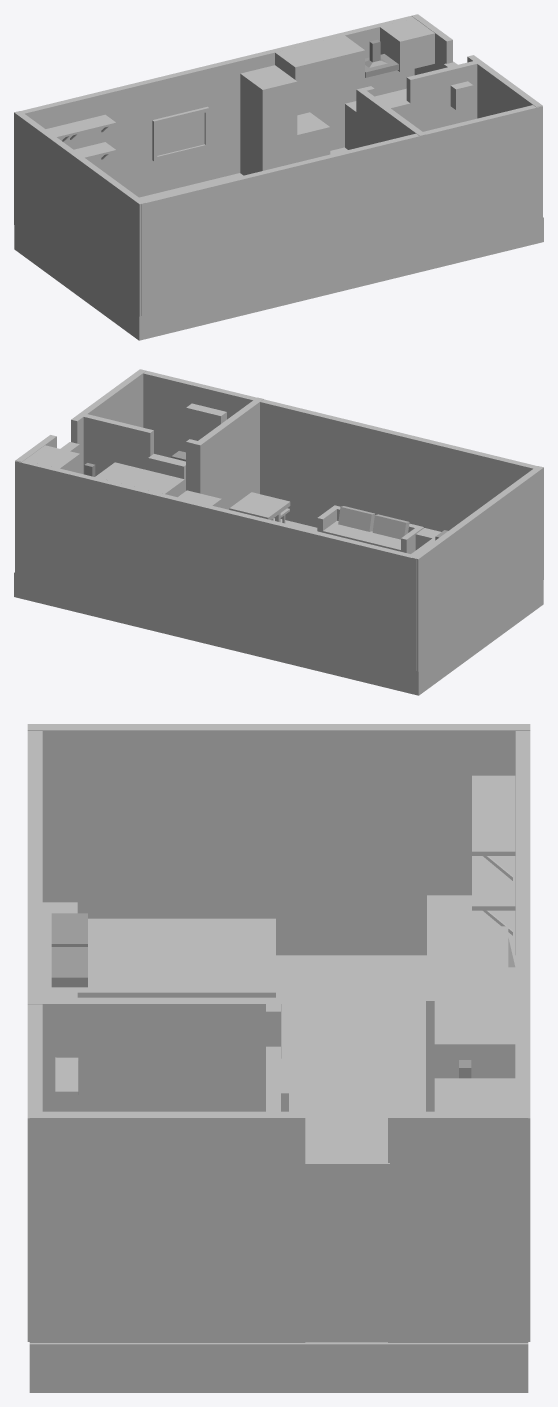
Rendered from room.fbx.
The picture shows the model from 3 angles, top to bottom: view 1: azimuth 30°, elevation 25°; view 2: azimuth 150°, elevation 25°; view 3: azimuth 270°, elevation 25°; orthographic projection. The views are drawn at different scales.
Parts seen in each view (by area): view 1: wall2, wall1, wall3, floor1, fridge, wall7, wall6, TV, pCube25, wall4, pCube22, pCube23 (+7 smaller); view 2: wall1, wall2, wall3, floor1, wall6, wall7, wall4, sofa_body, dining_table, pCube25, pCube22, pCube36 (+5 smaller); view 3: wall3, wall4, floor1, wall5, wall6, bed_body, door, wall1, wall2, pCube23, wall9, desk (+10 smaller).
Part boxes in pixels (box(x1,y1,x2,y2)): wall2: box(141, 105, 542, 315); wall1: box(21, 15, 414, 197); wall3: box(14, 111, 145, 316); floor1: box(14, 147, 543, 340); fridge: box(240, 65, 297, 175); wall7: box(406, 61, 477, 131); wall6: box(356, 88, 426, 248); TV: box(152, 106, 209, 161); pCube25: box(380, 18, 434, 72); wall4: box(467, 55, 542, 118); pCube22: box(275, 44, 330, 97); pCube23: box(310, 35, 364, 89); wall1: box(15, 460, 416, 670); wall2: box(143, 370, 536, 531); wall3: box(412, 466, 543, 671); floor1: box(14, 518, 543, 695); wall6: box(194, 397, 263, 509); wall7: box(83, 414, 153, 476); wall4: box(71, 369, 145, 474); sofa_body: box(317, 505, 423, 553); dining_table: box(229, 492, 290, 522); pCube25: box(25, 445, 79, 473); pCube22: box(130, 471, 184, 497); pCube36: box(186, 403, 226, 431); wall3: box(27, 724, 530, 955); wall4: box(29, 1111, 305, 1342); floor1: box(29, 955, 528, 1392); wall5: box(388, 1111, 528, 1342); wall6: box(27, 997, 281, 1111); bed_body: box(42, 918, 275, 997); door: box(307, 1154, 389, 1342); wall1: box(515, 731, 530, 1341); wall2: box(27, 731, 42, 1341); pCube23: box(434, 1010, 515, 1078); wall9: box(305, 1154, 387, 1342); desk: box(427, 895, 515, 967).
Bounding box in the file's own units: 23.41 × 7.56 × 12.58.
